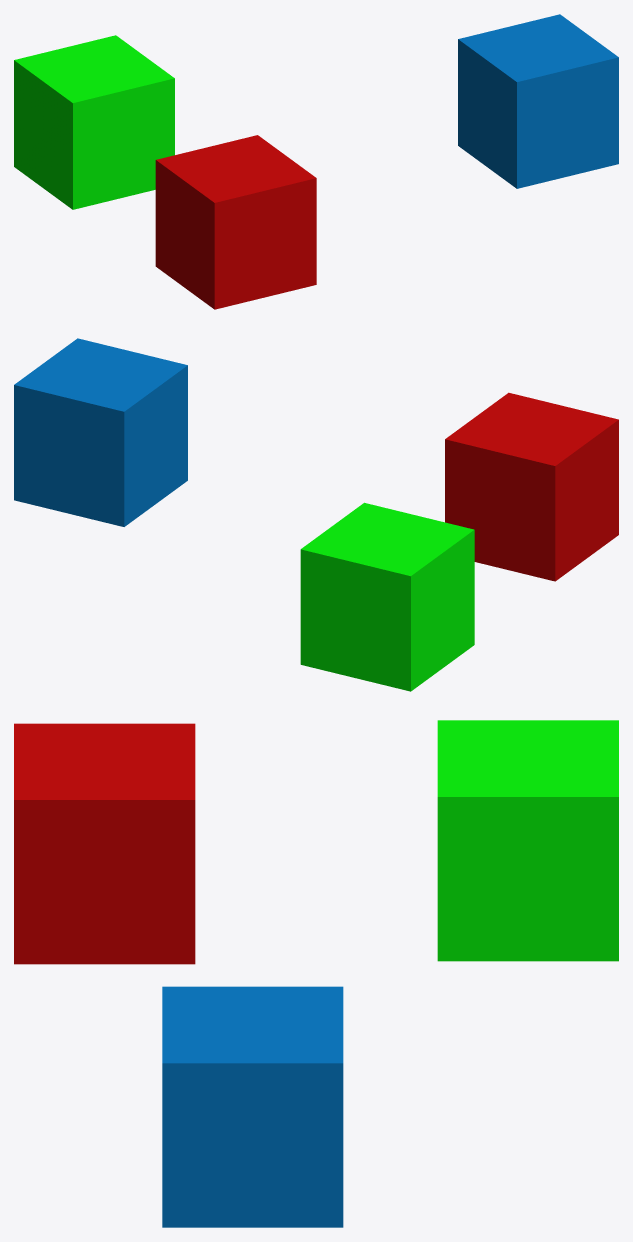
File: CubeRefr.obj
The picture shows the model from 3 angles, top to bottom: view 1: azimuth 30°, elevation 25°; view 2: azimuth 150°, elevation 25°; view 3: azimuth 270°, elevation 25°; orthographic projection. The views are drawn at different scales.
Visible parts, largest first — view 1: Cube, Cube.002, Cube.001; view 2: Cube.001, Cube.002, Cube; view 3: Cube.001, Cube.002, Cube.
Boxes of the visible parts, x1,y1,x2,y2 form: Cube: (155, 135, 316, 309); Cube.002: (458, 14, 618, 188); Cube.001: (14, 35, 174, 209); Cube.001: (300, 502, 474, 691); Cube.002: (14, 338, 187, 526); Cube: (445, 392, 618, 581); Cube.001: (437, 720, 618, 961); Cube.002: (162, 986, 343, 1227); Cube: (14, 723, 195, 964).
Bounding box in the file's own units: 8.95 × 2 × 6.68.
